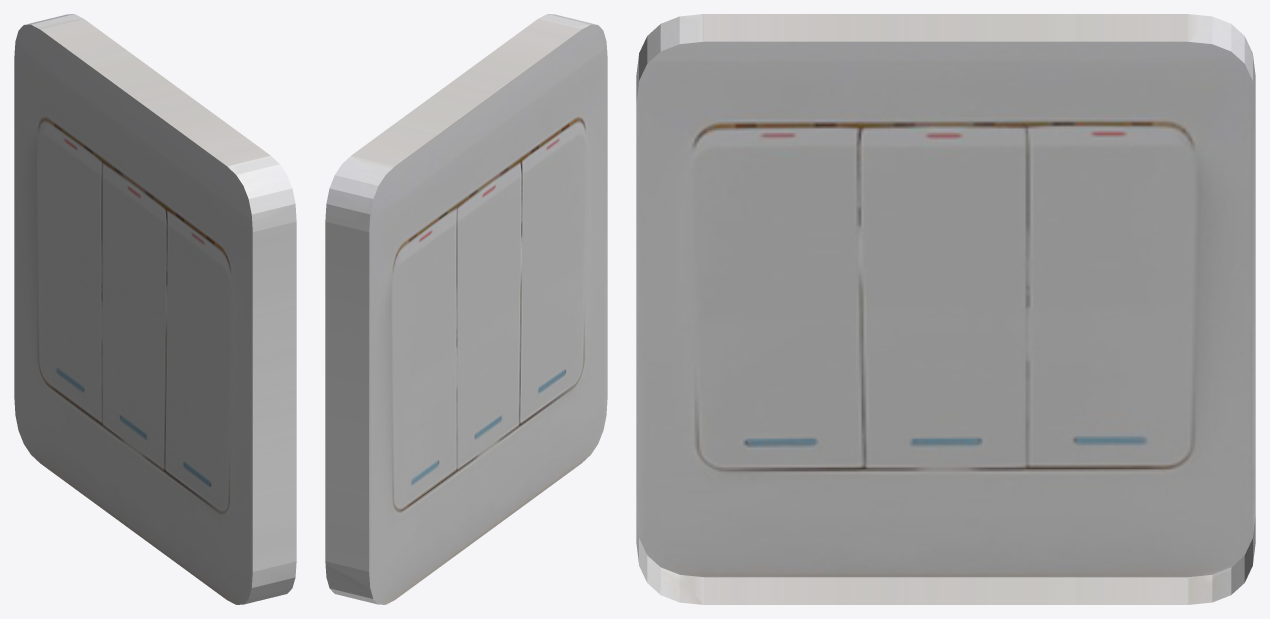
The model's file is Classroom-42.FBX.
The picture shows the model from 3 angles, left to right: view 1: azimuth 30°, elevation 25°; view 2: azimuth 150°, elevation 25°; view 3: azimuth 270°, elevation 25°; orthographic projection. The views are drawn at different scales.
Parts seen in each view (by area): view 1: Classroom-42; view 2: Classroom-42; view 3: Classroom-42.
Boxes of the visible parts, box(x1,y1,x2,y2) form: Classroom-42: box(14, 14, 296, 604); Classroom-42: box(325, 14, 607, 604); Classroom-42: box(636, 14, 1255, 604).
Bounding box in the file's own units: 9 × 85.14 × 84.81.
